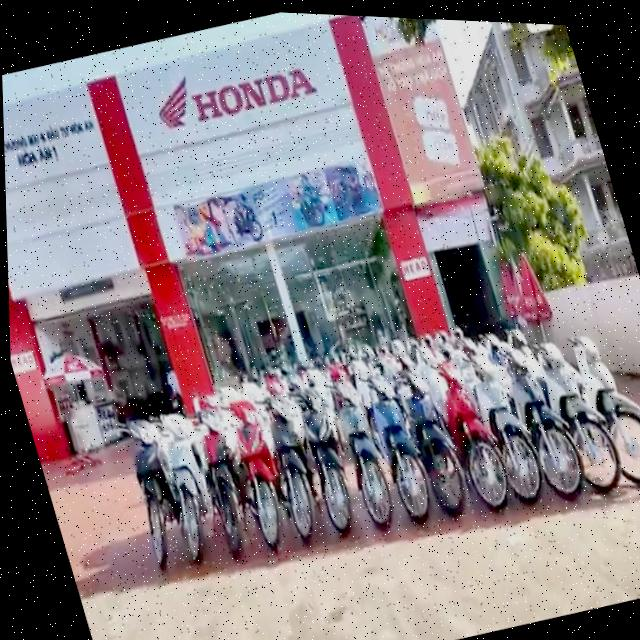motorcycle: (525, 325, 630, 506), (494, 332, 591, 505), (145, 391, 234, 574), (104, 401, 192, 584), (354, 366, 443, 534), (388, 360, 477, 528), (461, 346, 549, 513), (562, 317, 640, 500), (429, 355, 516, 516), (280, 380, 365, 544), (214, 386, 296, 552), (188, 385, 263, 564), (325, 372, 405, 538), (252, 385, 332, 547)
